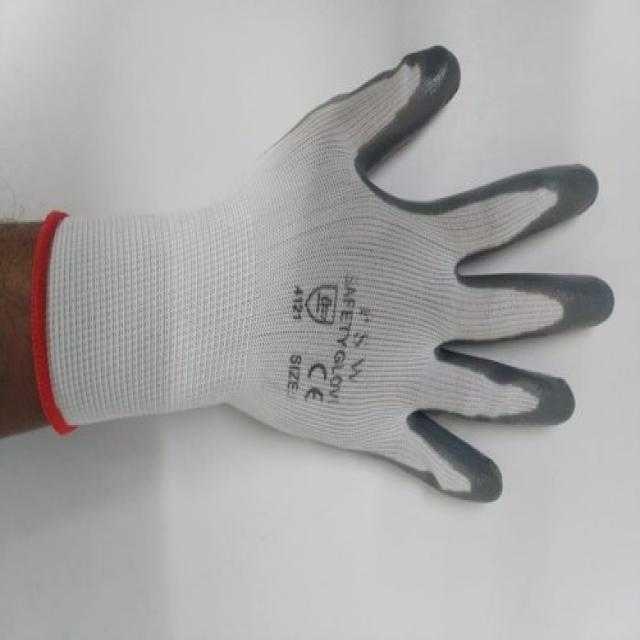gloves: (27, 46, 618, 500)
